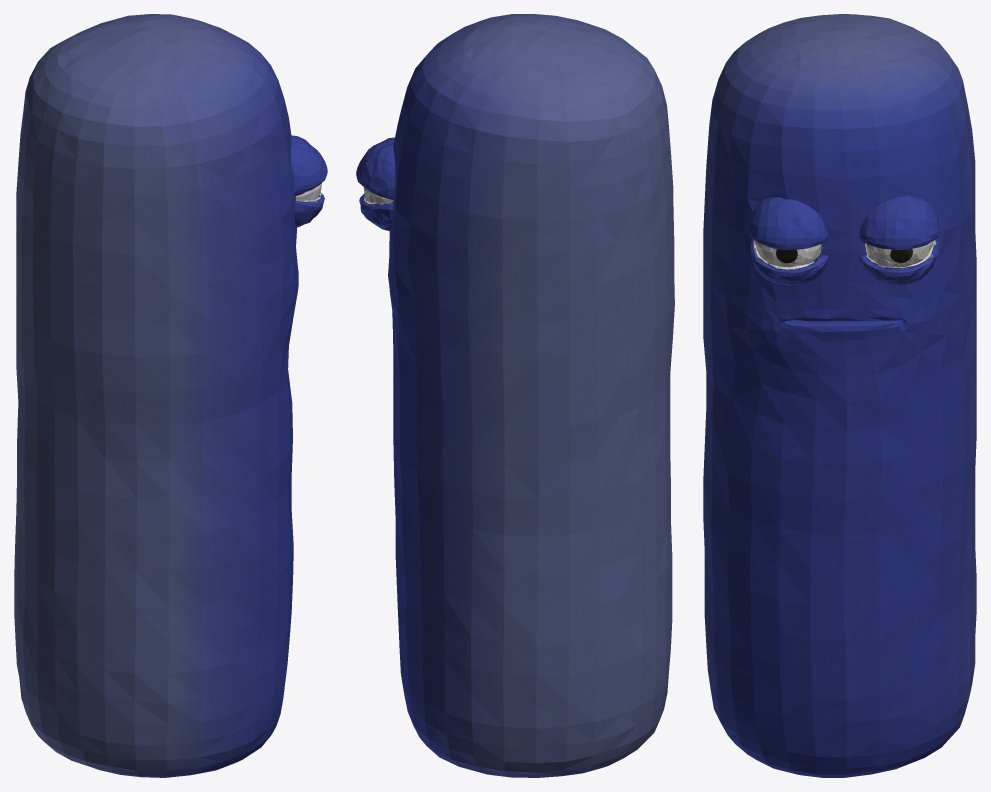
Rendered from margot.glb.
The picture shows the model from 3 angles, left to right: view 1: azimuth 30°, elevation 25°; view 2: azimuth 150°, elevation 25°; view 3: azimuth 270°, elevation 25°; orthographic projection.
Parts seen in each view (by area): view 1: tripo_node_5ee541ff-01ef-41d6-9a5a-cad9bcaf7e26; view 2: tripo_node_5ee541ff-01ef-41d6-9a5a-cad9bcaf7e26; view 3: tripo_node_5ee541ff-01ef-41d6-9a5a-cad9bcaf7e26.
Boxes of the visible parts, x1=… form: tripo_node_5ee541ff-01ef-41d6-9a5a-cad9bcaf7e26: x1=14, y1=14, x2=327, y2=777; tripo_node_5ee541ff-01ef-41d6-9a5a-cad9bcaf7e26: x1=356, y1=14, x2=674, y2=777; tripo_node_5ee541ff-01ef-41d6-9a5a-cad9bcaf7e26: x1=703, y1=14, x2=976, y2=777.
Bounding box in the file's own units: 0.3887 × 0.998 × 0.3496.
Materials: 1 (1 with a texture image).
